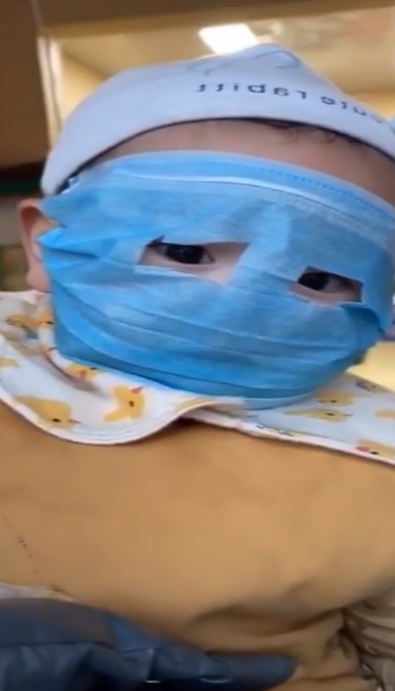mask_weared_incorrect: (12, 47, 394, 402)
